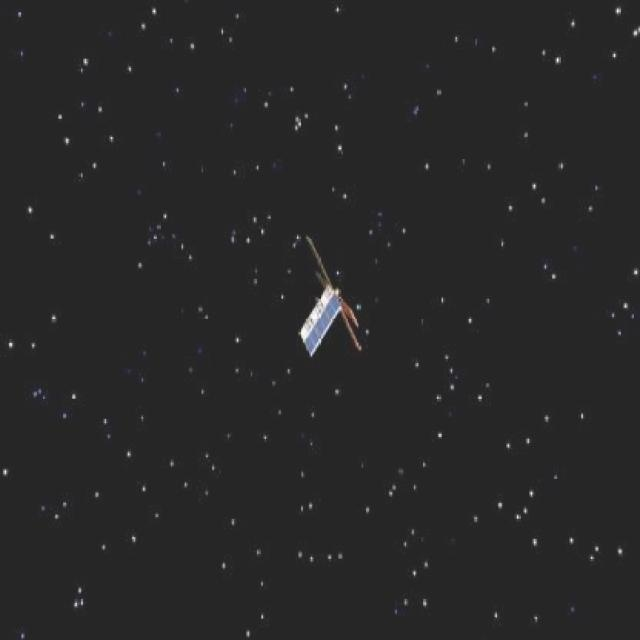medium_debris: (273, 232, 381, 371)
